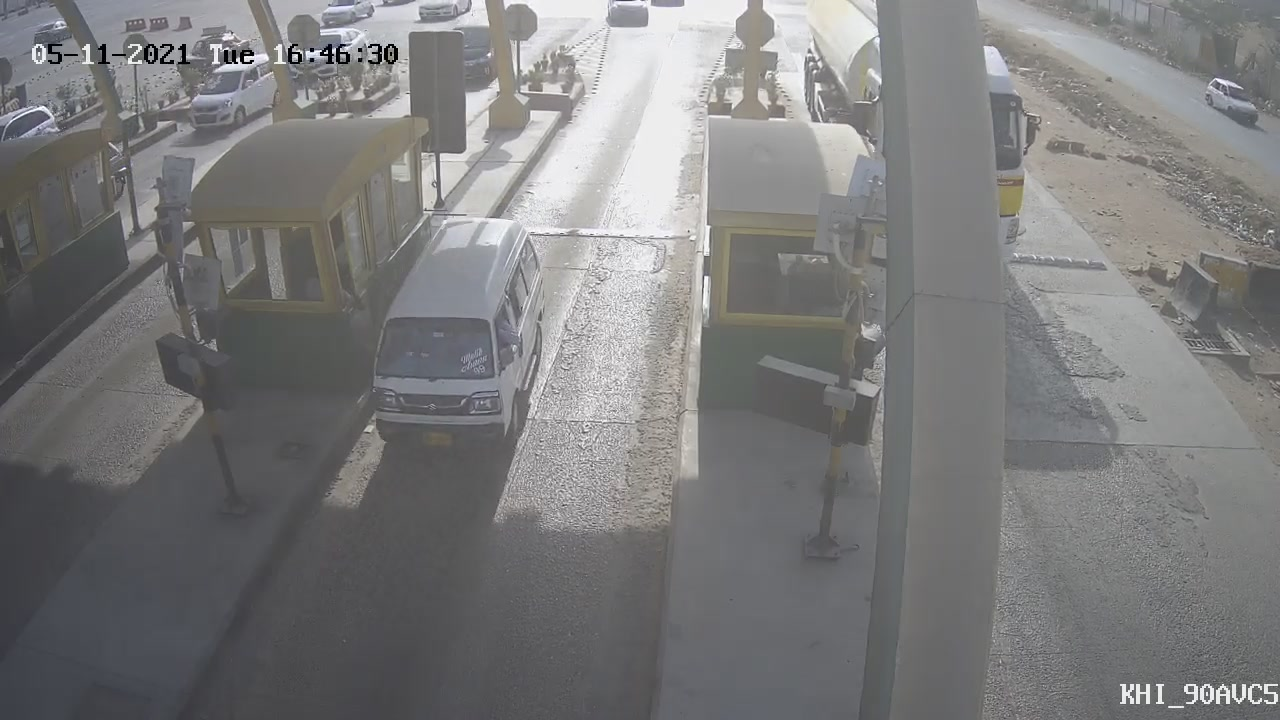F1: (343, 200, 566, 479)
